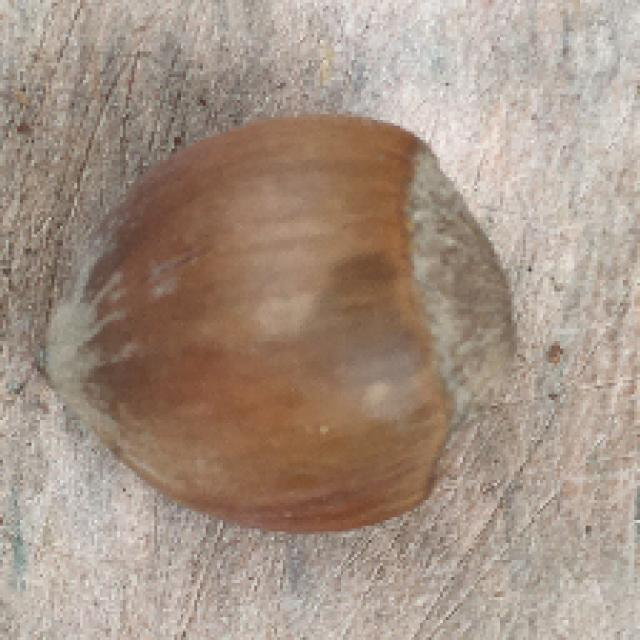damagedHazelnut: (48, 102, 522, 531)
